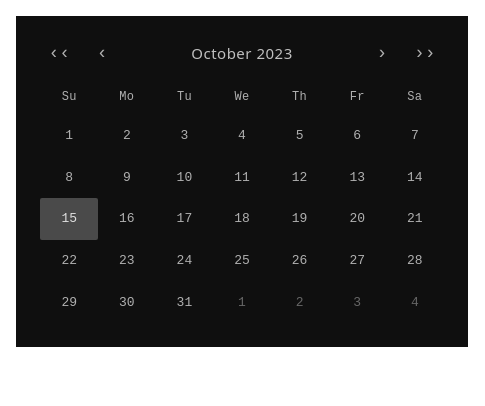
it: Calendar using date-fns › navigates to previous year
What coordinates should you click on to do the following:
click the button titled "Previous year"
I would click on:
 (59, 53)
Its box is [40,40,78,66].
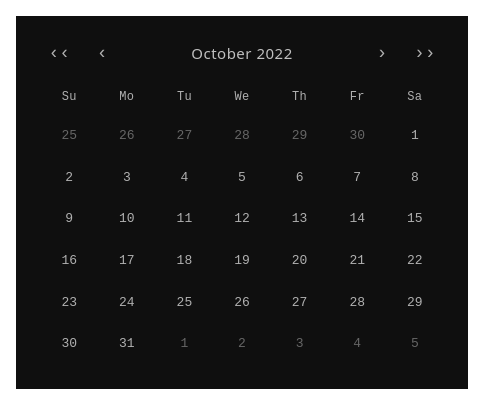
Check: the text "October 2022" is shown, box [191,43,293,63]
